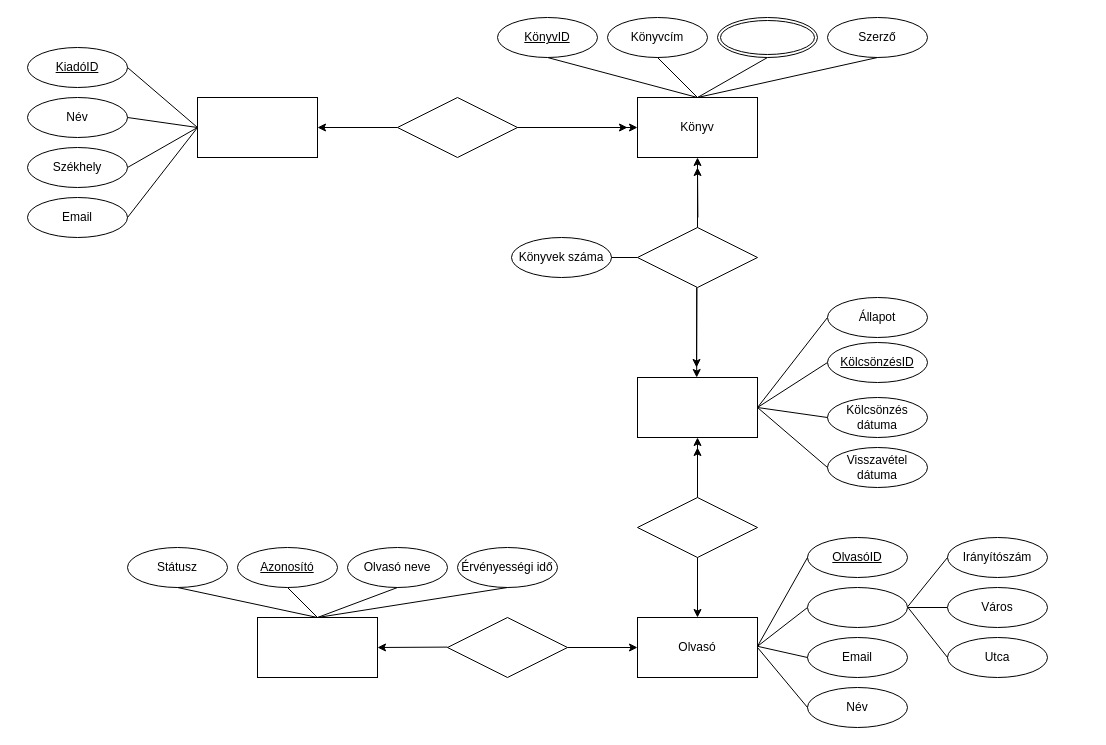
Some shapes in this 1106 by 745 pixel diagram are drawn without their labels. Each missing label, with the centre of its shape:
Cím: point 857,607
Kiad: point 457,127
Kiadó: point 257,127
Kölcsönzés: point 697,407
Kölcsönöz: point 697,527
Könyvtári tagság: point 317,647
Műfaj: point 767,37
Rendelkezik: point 507,647
Tartalmaz: point 697,257
